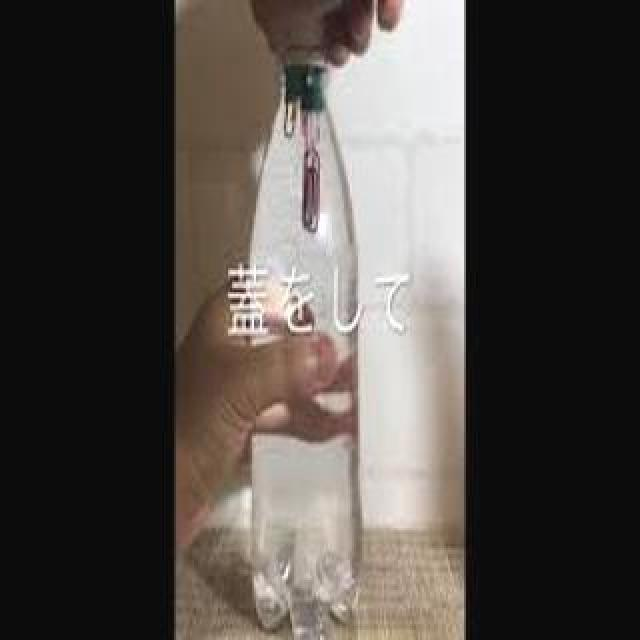Pet_Bottle: (245, 48, 367, 638)
